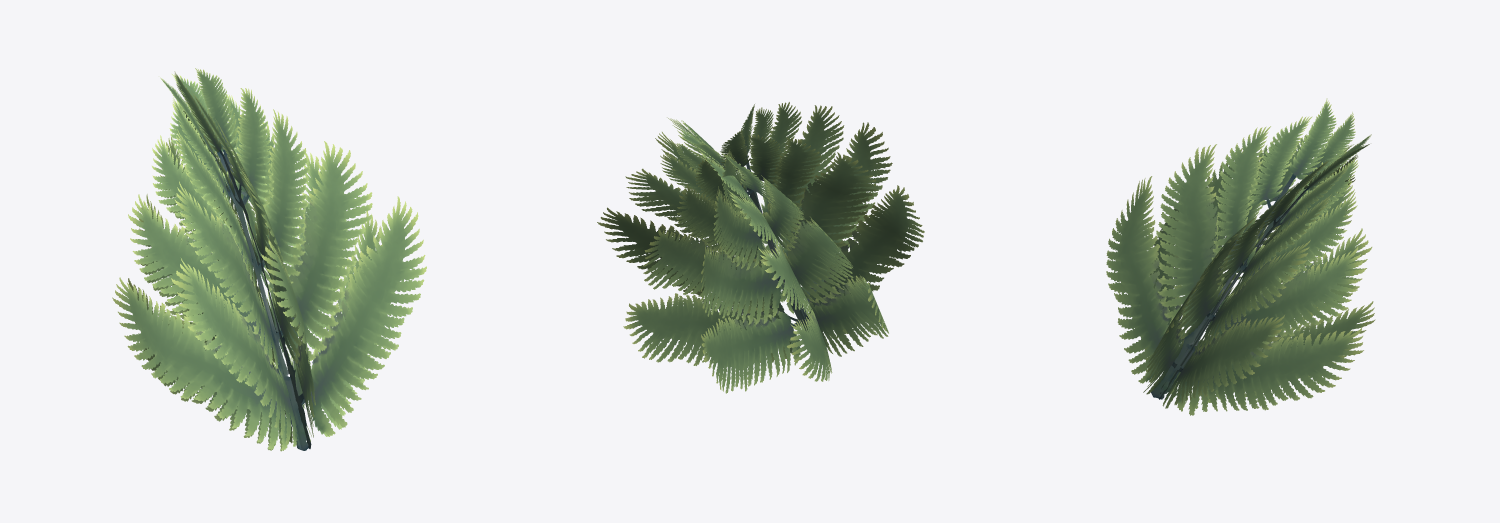
File: Fern_01.fbx
The picture shows the model from 3 angles, left to right: view 1: azimuth 30°, elevation 25°; view 2: azimuth 150°, elevation 25°; view 3: azimuth 270°, elevation 25°; orthographic projection. The views are drawn at different scales.
Parts seen in each view (by area): view 1: fern; view 2: fern; view 3: fern.
Part boxes in pixels (x1=…): fern: x1=112, y1=68, x2=426, y2=451; fern: x1=597, y1=102, x2=924, y2=393; fern: x1=1106, y1=98, x2=1375, y2=415.
Bounding box in the file's own units: 102 × 139 × 137.
Materials: 1 (1 with a texture image).
